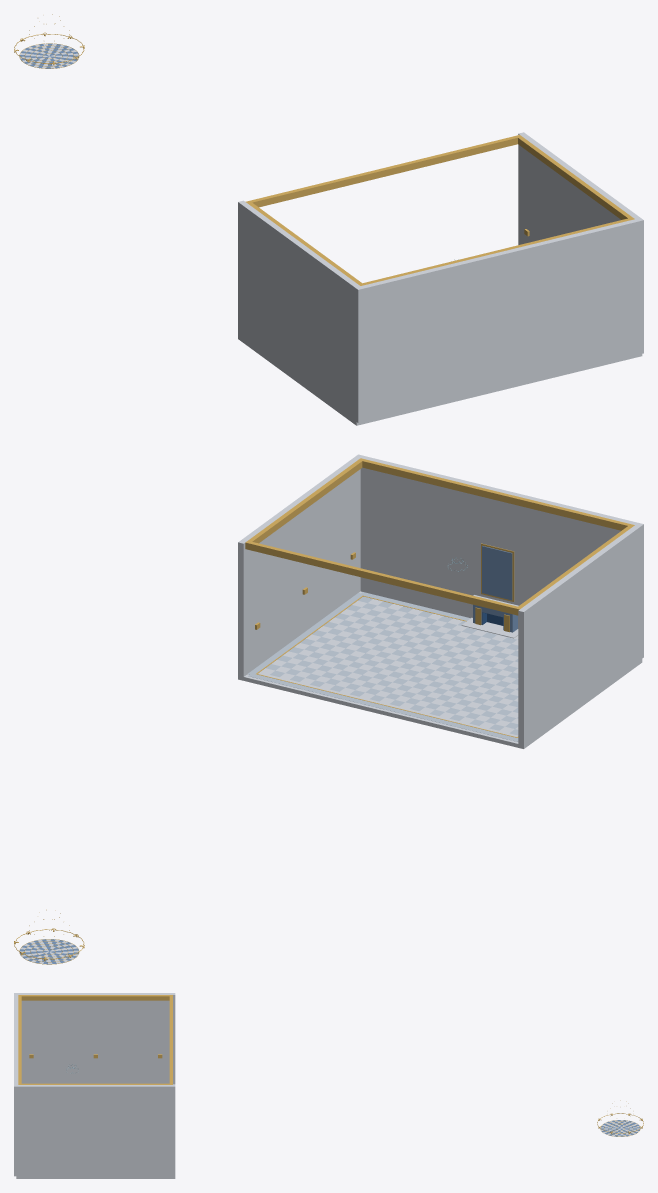
Rendered from KRM_STATIC_070.fbx.
The picture shows the model from 3 angles, top to bottom: view 1: azimuth 30°, elevation 25°; view 2: azimuth 150°, elevation 25°; view 3: azimuth 270°, elevation 25°; orthographic projection. The views are drawn at different scales.
Parts seen in each view (by area): view 1: KRM_STATIC_070; view 2: KRM_STATIC_070; view 3: KRM_STATIC_070.
Part boxes in pixels (x1=…): KRM_STATIC_070: x1=14, y1=14, x2=643, y2=425; KRM_STATIC_070: x1=14, y1=454, x2=643, y2=964; KRM_STATIC_070: x1=14, y1=993, x2=643, y2=1178.
Bounding box in the file's own units: 2290 × 1050 × 6512.
1 material, 1 textured.
